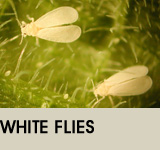whitefly: (12, 5, 81, 46), (86, 64, 154, 100)
